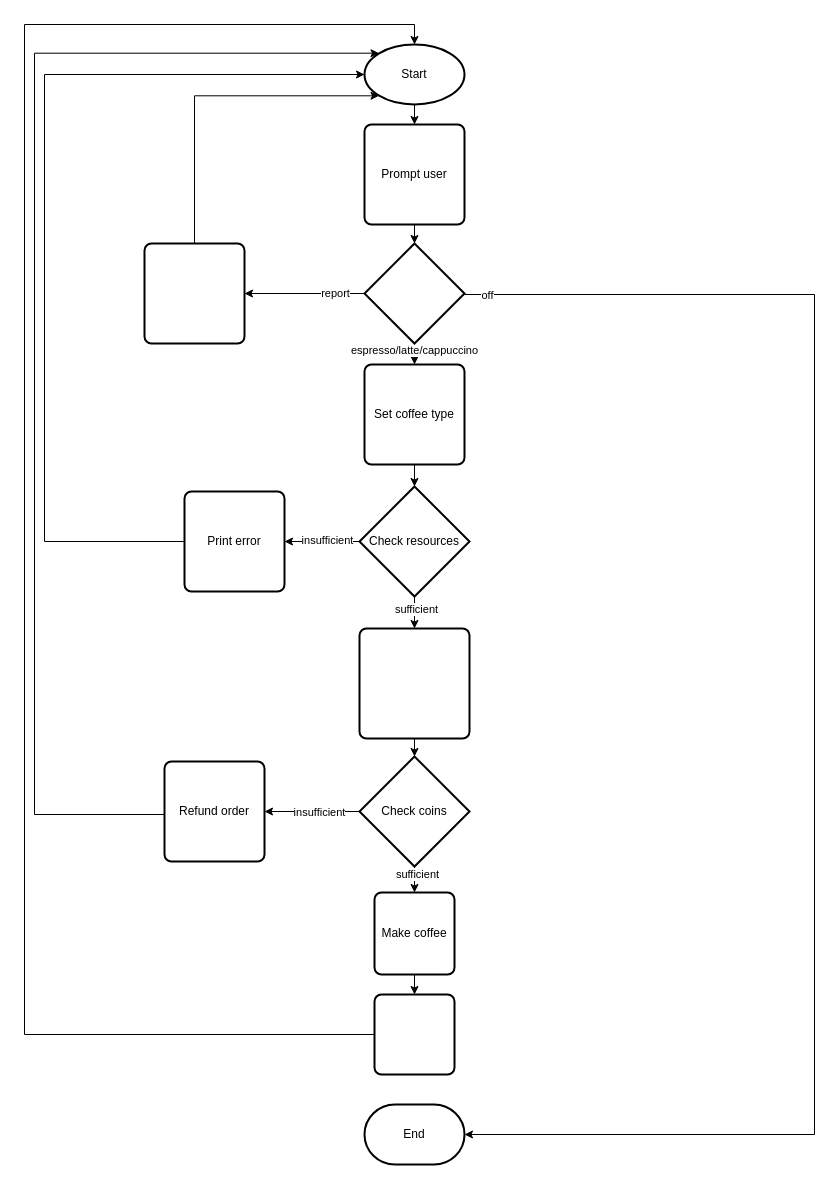
This 840x1183 diagram has some shape labels left out. Each missing label, with the box of its shape:
Get coins: (358, 627, 470, 739)
Give coffee + change: (373, 993, 455, 1075)
Print report: (143, 242, 245, 344)
Process command: (363, 242, 465, 344)
